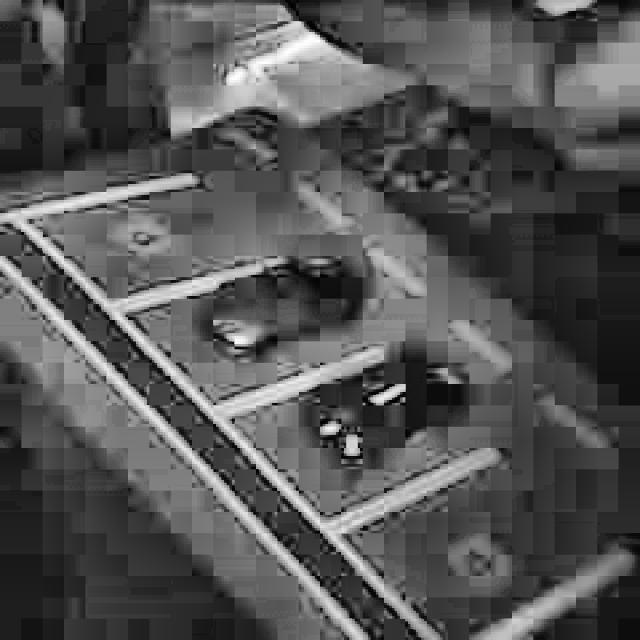car: (294, 350, 476, 475), (200, 240, 370, 367)
